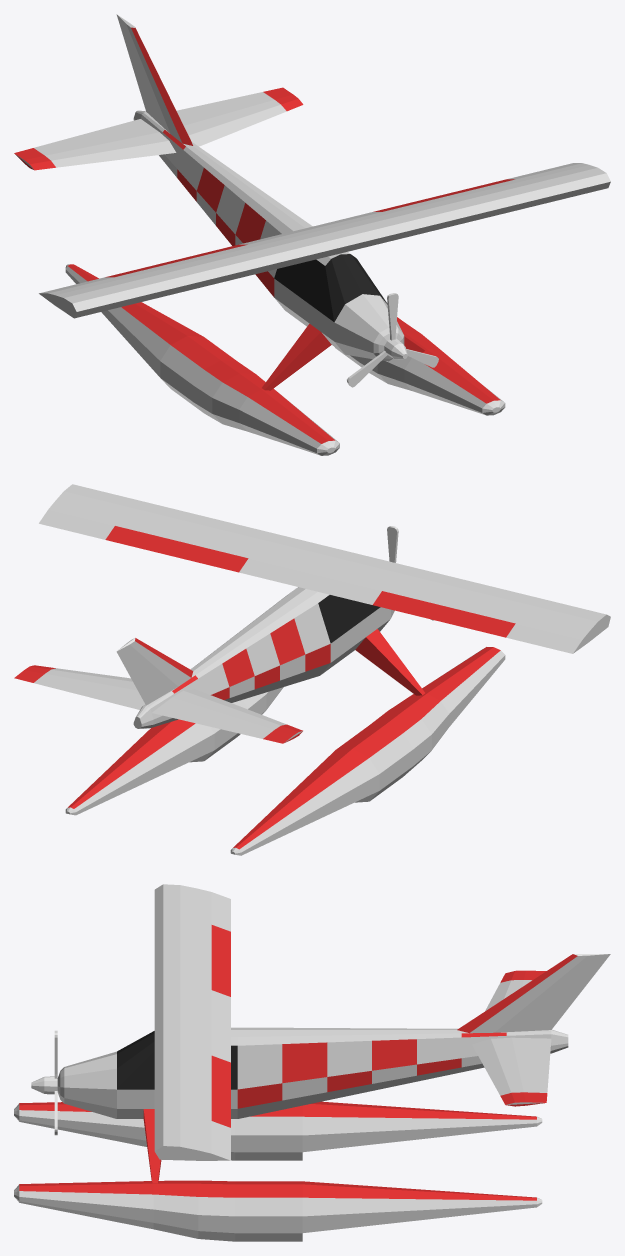
3 views of the same model, one above another, from view 1: azimuth 30°, elevation 25°; view 2: azimuth 150°, elevation 25°; view 3: azimuth 270°, elevation 25° (orthographic).
Parts seen in each view (by area): view 1: Circle.003, Plane, Circle.002, Circle.001, Plane.002; view 2: Circle.003, Plane, Circle.002, Circle.001; view 3: Circle.003, Plane, Circle.001, Circle.002, Plane.002.
Boxes of the visible parts, x1,y1,x2,y2 form: Circle.003: (65, 110, 505, 455); Plane: (39, 163, 610, 318); Circle.002: (14, 87, 303, 170); Circle.001: (116, 14, 192, 145); Plane.002: (347, 293, 438, 387); Circle.003: (65, 587, 505, 855); Plane: (39, 484, 610, 653); Circle.002: (14, 665, 302, 743); Circle.001: (116, 638, 193, 705); Circle.003: (14, 1027, 568, 1241); Plane: (154, 884, 230, 1160); Circle.001: (457, 954, 610, 1033); Circle.002: (472, 970, 551, 1106); Plane.002: (31, 1030, 57, 1135).
Bounding box in the file's own units: 20.73 × 9.03 × 19.99.
